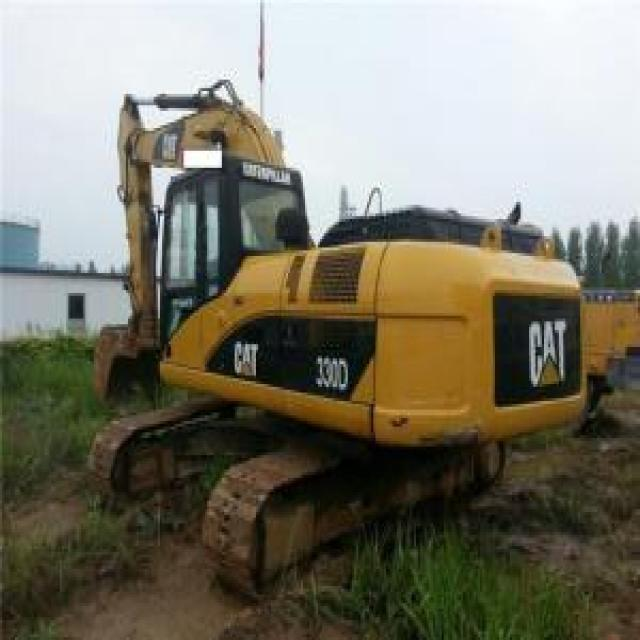excavator: (77, 84, 596, 573)
